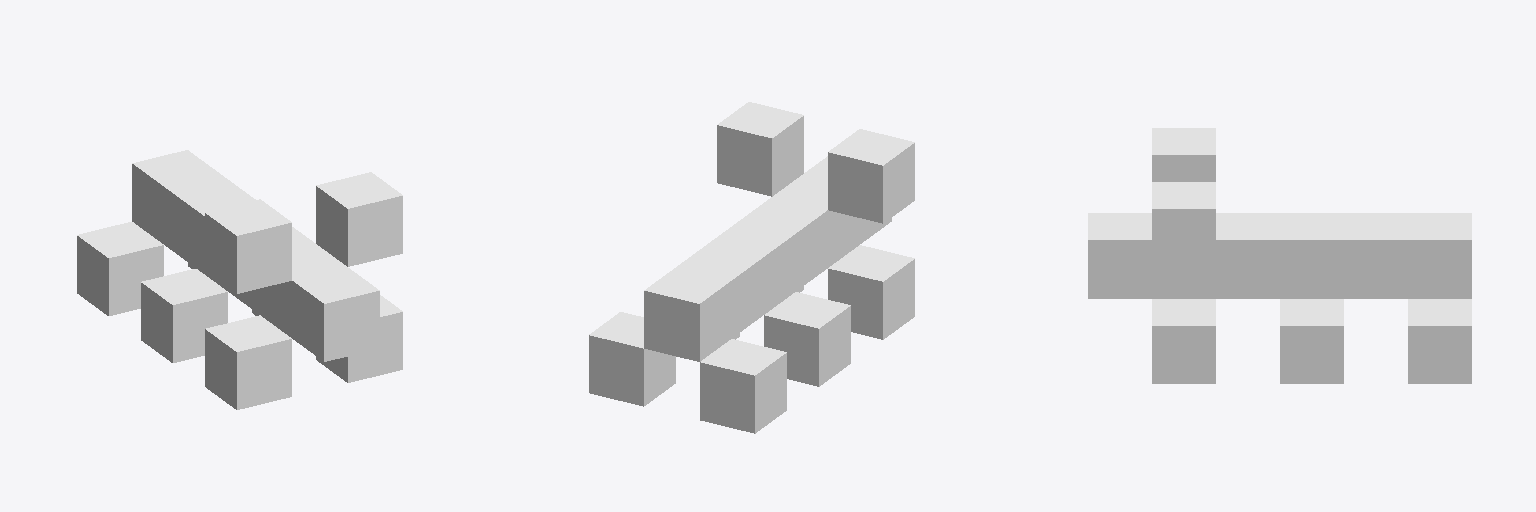
Rendered from Ant.obj.
3 renders of one model, left to right at view 1: azimuth 30°, elevation 25°; view 2: azimuth 150°, elevation 25°; view 3: azimuth 270°, elevation 25°, orthographic.
Parts seen in each view (by area): view 1: object 1; view 2: object 1; view 3: object 1.
Part boxes in pixels (x1,y1,x2,y2): object 1: (77,150,402,409); object 1: (589,102,914,433); object 1: (1088,128,1471,383).
Size of the model in its own units: 0.3 by 0.3 by 0.6.